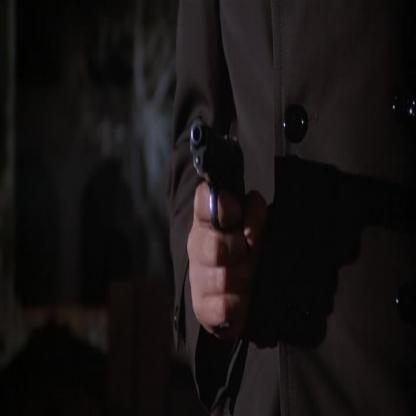gun: (181, 92, 261, 299)
